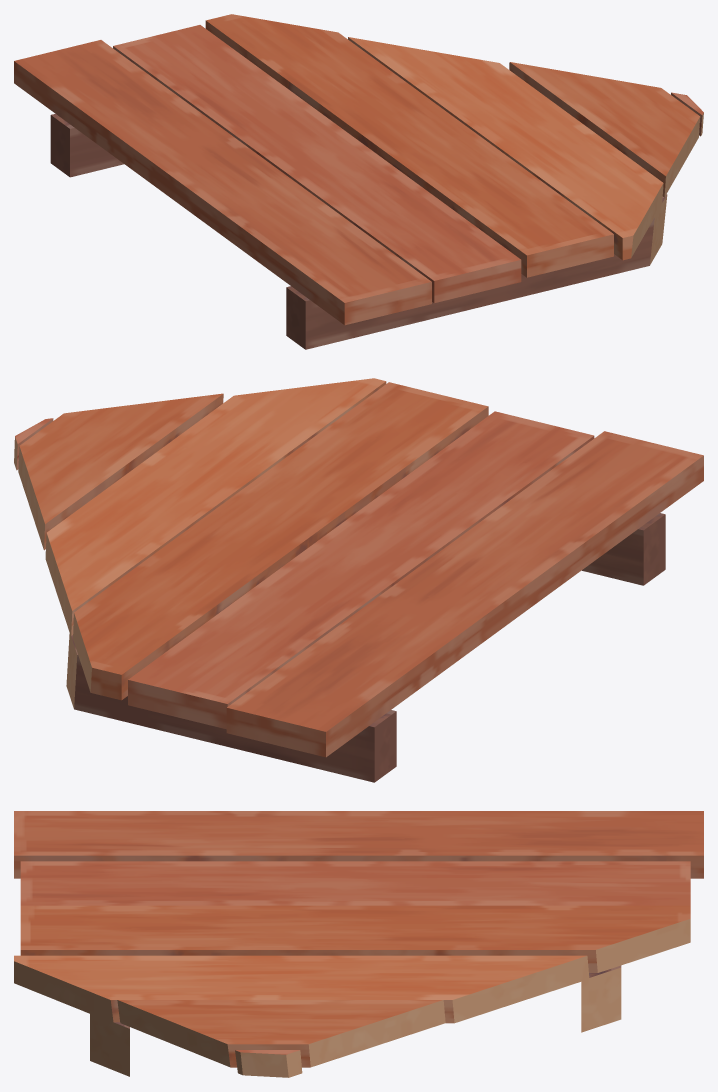
The model's file is plank_s01.fbx.
The picture shows the model from 3 angles, top to bottom: view 1: azimuth 30°, elevation 25°; view 2: azimuth 150°, elevation 25°; view 3: azimuth 270°, elevation 25°; orthographic projection. The views are drawn at different scales.
Parts seen in each view (by area): view 1: plank_s01; view 2: plank_s01; view 3: plank_s01.
Boxes of the visible parts, box(x1,y1,x2,y2) form: plank_s01: box(14, 14, 703, 349); plank_s01: box(14, 378, 703, 782); plank_s01: box(14, 811, 703, 1077).
Bounding box in the file's own units: 5.13 × 0.75 × 6.18.
